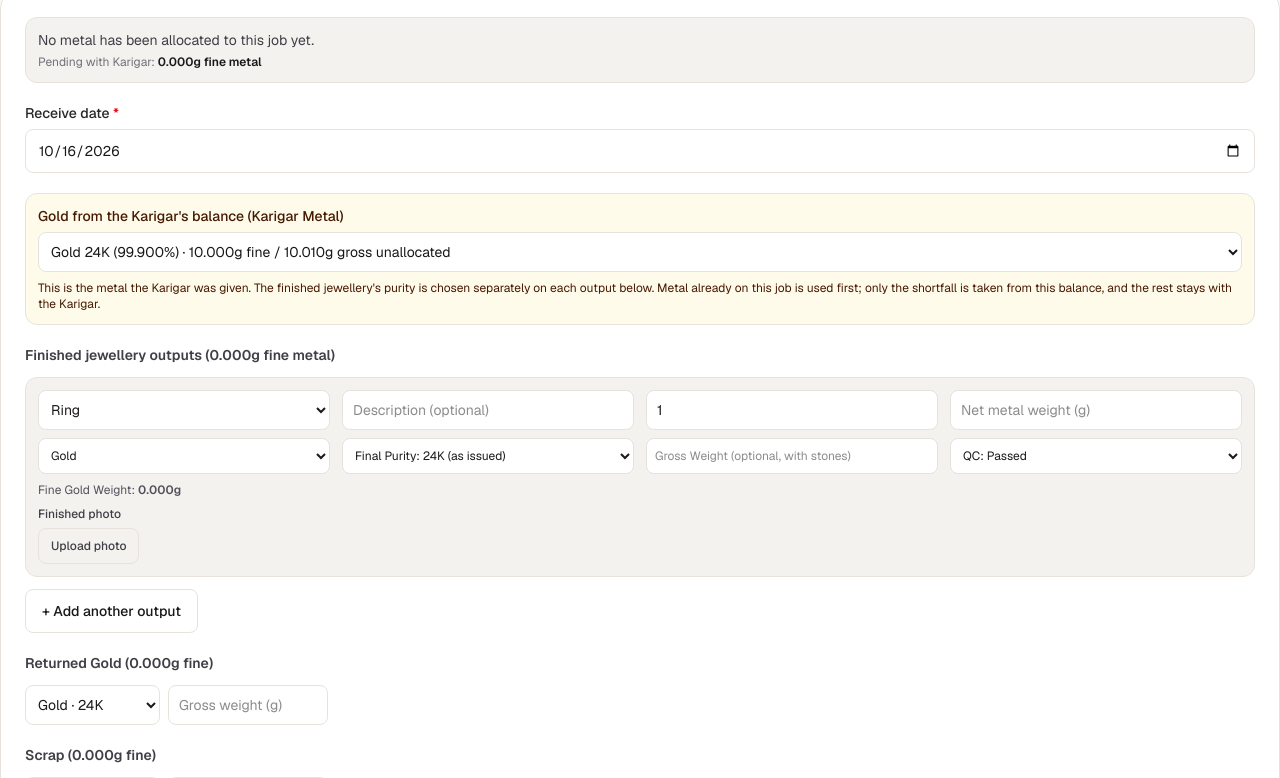
ReceiveFinishedForm — Staff › Staff receive from the job's Karigar balance: source, finished purity, preview in weights, no ₹ anywhere
Expected: the dropdown named "Karigar Metal source" shows "Gold 24K (99.900%) · 10.000g fine / 10.010g gross unallocated", [38, 232, 1242, 272]
Step 1. Type "3.52" into the number field labelled "Net metal weight" → (1096, 410), box [950, 390, 1242, 430]
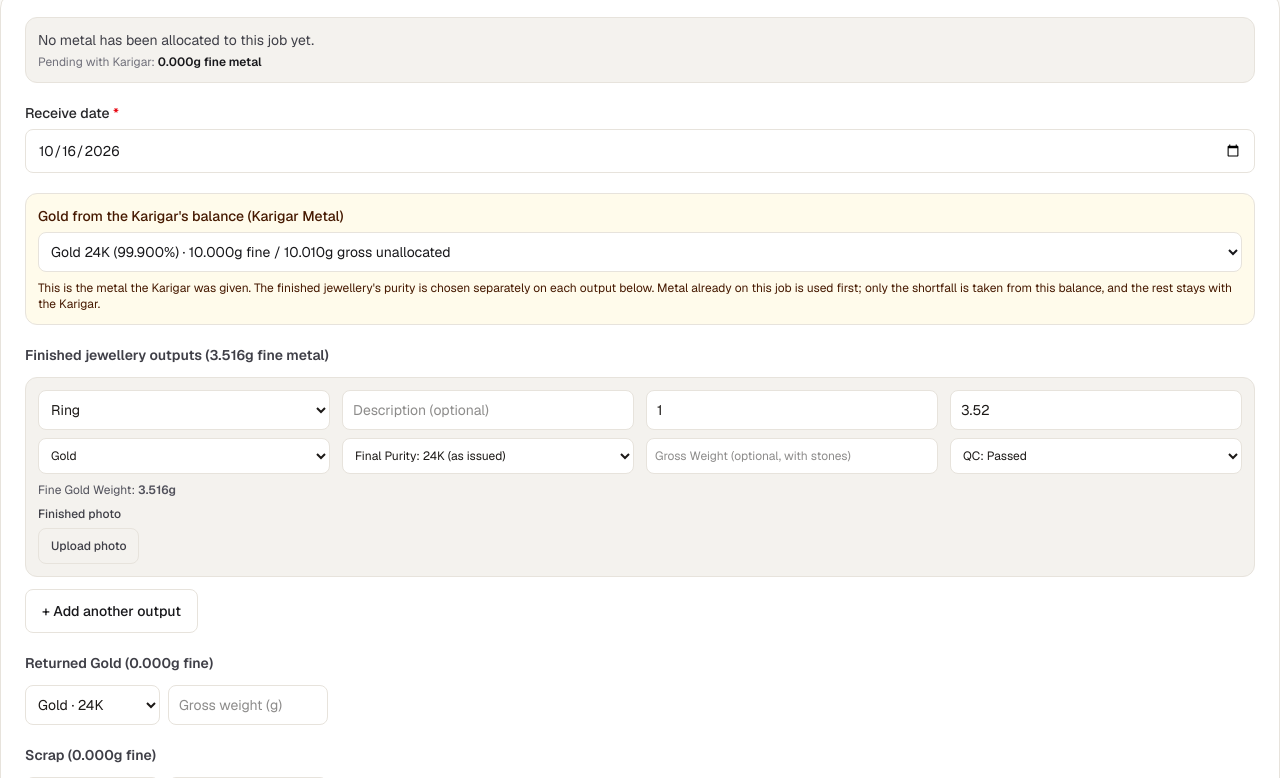
Step 2. Select "Final Purity: 18K" in the dropdown named "Final Purity" → (488, 456), box [342, 438, 634, 474]
(page scrolled)
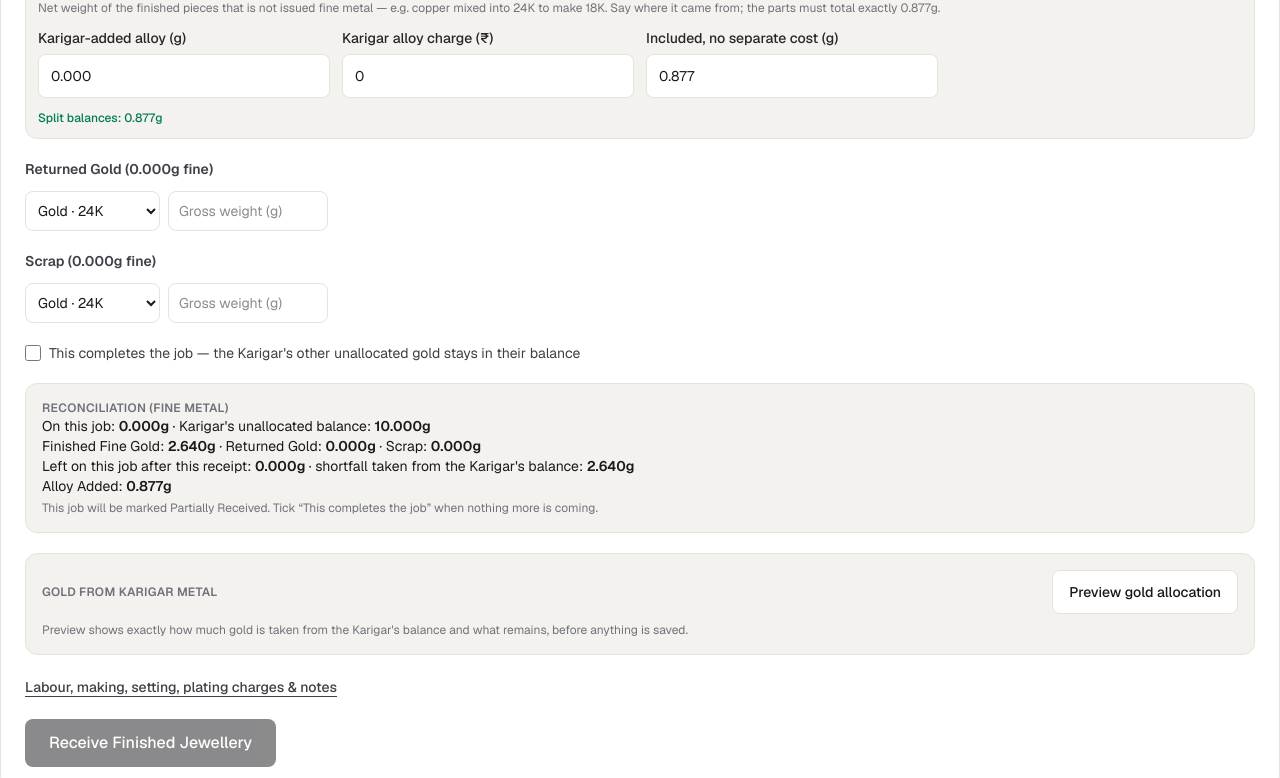
Expected: the button "Receive Finished Jewellery" is disabled, [25, 719, 276, 767]
Step 3. Click the button "Preview gold allocation" → (1145, 592), box [1052, 570, 1238, 614]
(page scrolled)
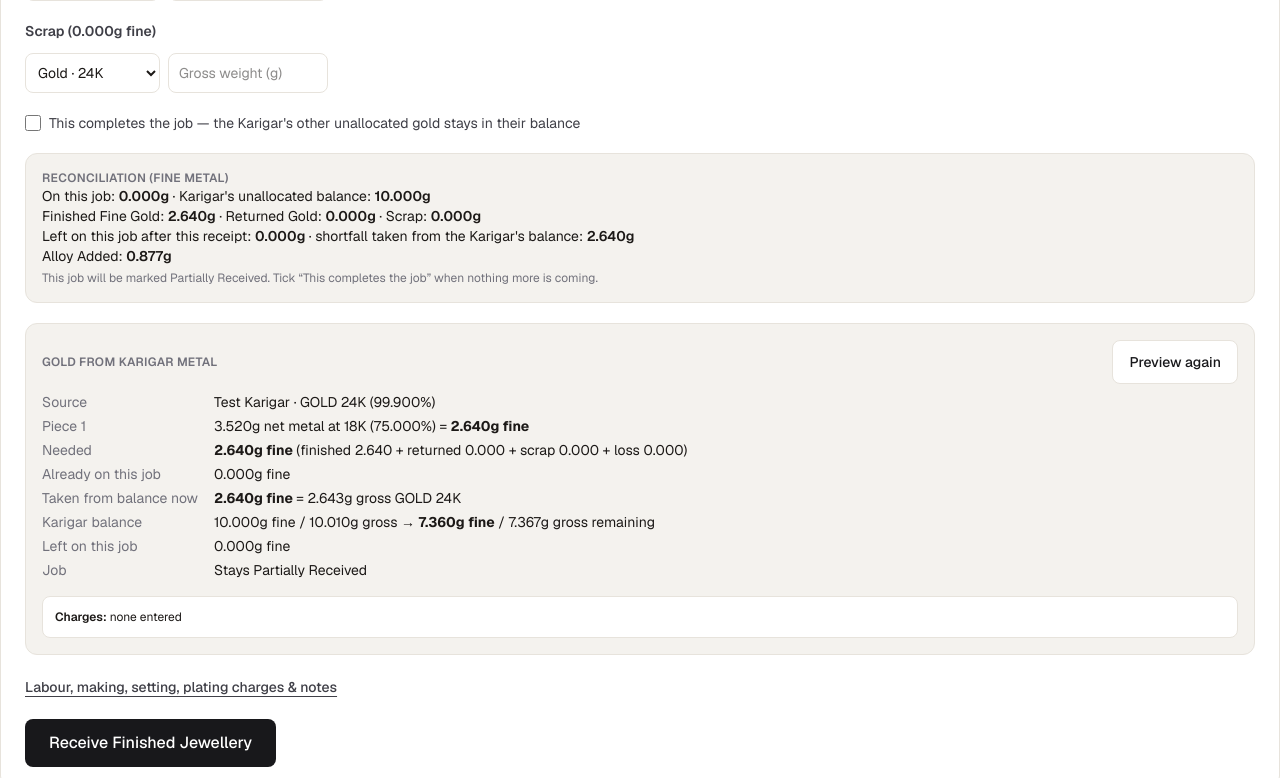
Expected: the element showing "2.640g fine = 2.643g gross GOLD 24K" is shown, [214, 489, 461, 507]
Expected: the button "Receive Finished Jewellery" is enabled, [25, 719, 276, 767]
